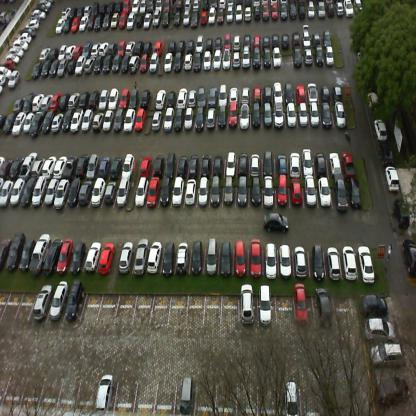car: (375, 374, 409, 407), (29, 230, 52, 275), (61, 289, 86, 326), (6, 229, 26, 273), (370, 342, 402, 369), (94, 373, 115, 414), (364, 314, 395, 341), (28, 288, 51, 324), (46, 290, 69, 326), (314, 284, 332, 328), (354, 240, 374, 277), (293, 281, 309, 326), (145, 240, 165, 275), (324, 242, 342, 280), (362, 290, 388, 316), (263, 210, 289, 235), (41, 239, 60, 273), (68, 240, 87, 274), (19, 234, 36, 272), (179, 374, 195, 414), (240, 281, 254, 326), (76, 176, 94, 210), (144, 177, 162, 211), (293, 243, 311, 277), (53, 241, 72, 273), (284, 377, 300, 415), (82, 240, 100, 273), (340, 241, 356, 278), (402, 235, 416, 277), (258, 282, 271, 327), (88, 174, 105, 208), (278, 244, 295, 278), (310, 242, 326, 278), (160, 241, 177, 274), (174, 243, 191, 276), (203, 241, 218, 278), (170, 176, 186, 210), (188, 242, 204, 276), (263, 243, 279, 277), (54, 176, 70, 210), (31, 174, 47, 208), (344, 176, 362, 206), (234, 241, 249, 277), (65, 176, 81, 209), (113, 177, 129, 210), (156, 178, 172, 211), (132, 240, 148, 273), (217, 242, 233, 275), (384, 162, 401, 193), (394, 194, 409, 229), (100, 178, 116, 210), (96, 244, 113, 274), (248, 240, 263, 274), (316, 177, 332, 208), (21, 174, 36, 207), (20, 149, 37, 178), (314, 148, 330, 178), (118, 242, 134, 272), (0, 175, 15, 207), (62, 152, 79, 180), (0, 234, 12, 272), (133, 177, 146, 212), (73, 154, 91, 179), (10, 176, 25, 206), (341, 149, 357, 177), (84, 153, 101, 179), (330, 179, 345, 208), (197, 179, 211, 210), (44, 175, 58, 206), (288, 180, 304, 207), (122, 106, 137, 134), (288, 147, 302, 177), (301, 148, 315, 178), (235, 179, 249, 209), (262, 178, 276, 208), (276, 179, 290, 209), (373, 115, 388, 143), (90, 106, 106, 132), (96, 154, 112, 180), (10, 110, 26, 136), (328, 148, 342, 177), (209, 180, 223, 209), (276, 148, 289, 179), (304, 178, 317, 209), (122, 155, 138, 180), (52, 152, 68, 177), (101, 107, 115, 135), (112, 107, 126, 135), (70, 104, 84, 132), (332, 101, 347, 127), (186, 152, 201, 178), (109, 155, 125, 179), (248, 150, 262, 177), (29, 111, 44, 136), (184, 179, 196, 210), (133, 108, 147, 134), (149, 154, 163, 180), (3, 110, 17, 136), (138, 155, 153, 179), (263, 147, 275, 177), (249, 179, 261, 209), (150, 106, 163, 133), (164, 152, 178, 177), (199, 152, 213, 177), (210, 152, 224, 177), (224, 179, 236, 208), (30, 155, 45, 178), (366, 90, 381, 113), (40, 108, 53, 134), (174, 153, 188, 177), (224, 150, 236, 178), (43, 152, 56, 177), (176, 83, 189, 108), (9, 156, 23, 179), (194, 107, 206, 133), (154, 84, 166, 110), (62, 107, 73, 135), (22, 90, 36, 112), (50, 89, 64, 111), (162, 107, 174, 132), (238, 105, 250, 130), (237, 152, 249, 177), (82, 107, 94, 132), (88, 85, 101, 108), (108, 84, 120, 108), (311, 102, 322, 128), (321, 104, 334, 126), (0, 156, 13, 178), (283, 77, 294, 103), (273, 75, 283, 103), (262, 105, 274, 128), (274, 105, 286, 128), (298, 105, 310, 128), (51, 110, 63, 133), (23, 110, 35, 133), (306, 80, 318, 103), (290, 45, 302, 68), (32, 91, 45, 112), (330, 80, 343, 101), (184, 106, 194, 133), (216, 107, 227, 131), (295, 80, 306, 104), (173, 50, 184, 74), (174, 108, 184, 134), (41, 90, 54, 110), (301, 22, 311, 48), (31, 58, 44, 78), (102, 51, 115, 71), (129, 52, 142, 72), (119, 85, 130, 108), (138, 51, 149, 74), (252, 105, 262, 130), (138, 87, 151, 106), (205, 108, 216, 130), (228, 106, 239, 128), (98, 87, 109, 109), (166, 86, 178, 106), (207, 82, 217, 106), (324, 44, 334, 68), (75, 53, 87, 73), (71, 42, 84, 60), (7, 68, 20, 86), (286, 105, 297, 126), (129, 86, 139, 109), (263, 80, 273, 103), (240, 46, 250, 69), (164, 48, 174, 71), (58, 91, 70, 110), (78, 88, 90, 107), (41, 57, 53, 76), (47, 44, 60, 61), (320, 80, 331, 100), (314, 45, 324, 67), (272, 45, 282, 67), (262, 48, 272, 70), (222, 48, 232, 70), (58, 56, 69, 76), (112, 51, 122, 73), (120, 51, 130, 73), (289, 0, 299, 22), (325, 0, 336, 20), (345, 0, 356, 20), (14, 92, 26, 110), (252, 46, 261, 70), (186, 33, 196, 54), (290, 28, 301, 47), (57, 42, 68, 61), (93, 53, 104, 72), (297, 0, 308, 19), (306, 0, 317, 19), (68, 90, 81, 106), (213, 46, 221, 72), (203, 49, 212, 72), (149, 49, 158, 72), (261, 0, 270, 23), (133, 37, 145, 54), (81, 40, 93, 57), (64, 43, 76, 60), (66, 56, 78, 73), (84, 55, 96, 72), (61, 16, 73, 33), (220, 79, 227, 108), (252, 83, 262, 103), (302, 46, 312, 66), (232, 31, 242, 51), (194, 51, 204, 71), (49, 57, 60, 75), (101, 12, 112, 30), (197, 82, 205, 106), (8, 46, 24, 58), (13, 38, 29, 50), (240, 83, 250, 102), (184, 51, 194, 70), (214, 6, 224, 25), (188, 86, 197, 107), (229, 82, 238, 103), (253, 0, 261, 23), (322, 26, 332, 44), (280, 30, 289, 50), (195, 33, 204, 53), (154, 36, 164, 54), (118, 36, 127, 56), (39, 44, 49, 62), (126, 12, 136, 30), (160, 10, 170, 28), (203, 34, 214, 50), (125, 38, 136, 54), (20, 27, 36, 38), (271, 0, 279, 22), (61, 2, 72, 18), (243, 3, 252, 22), (317, 0, 326, 19), (336, 0, 345, 19), (69, 17, 79, 34), (78, 14, 88, 31), (89, 44, 101, 58), (152, 8, 160, 29), (5, 53, 20, 64), (25, 18, 40, 29), (54, 16, 65, 31), (118, 9, 127, 27), (190, 10, 199, 28), (270, 30, 280, 46), (223, 30, 231, 50), (142, 38, 152, 54), (100, 39, 110, 55), (235, 1, 243, 21), (280, 0, 288, 20), (32, 8, 45, 20), (106, 0, 117, 14), (111, 11, 120, 28), (172, 10, 180, 29), (252, 33, 262, 48), (134, 12, 144, 27), (354, 0, 364, 15), (233, 48, 240, 69), (208, 6, 216, 24), (108, 40, 118, 54), (243, 31, 251, 48), (93, 13, 101, 30), (86, 15, 95, 30), (199, 11, 208, 26), (226, 3, 233, 22), (263, 31, 270, 49), (19, 33, 33, 42), (131, 0, 140, 14), (214, 34, 222, 49), (176, 36, 184, 51), (0, 66, 10, 78), (70, 5, 80, 17), (146, 0, 156, 12), (144, 11, 151, 28), (182, 9, 189, 26), (30, 14, 43, 23), (91, 2, 100, 15), (312, 30, 320, 44), (37, 3, 48, 13), (84, 2, 93, 14), (99, 2, 108, 14), (168, 38, 176, 51), (1, 60, 14, 68), (40, 0, 52, 8), (78, 4, 86, 16), (116, 0, 124, 11), (155, 0, 163, 11), (163, 0, 171, 11), (139, 0, 147, 10), (173, 0, 182, 8), (192, 0, 200, 9), (200, 0, 209, 8), (184, 0, 192, 8), (124, 1, 131, 9)
